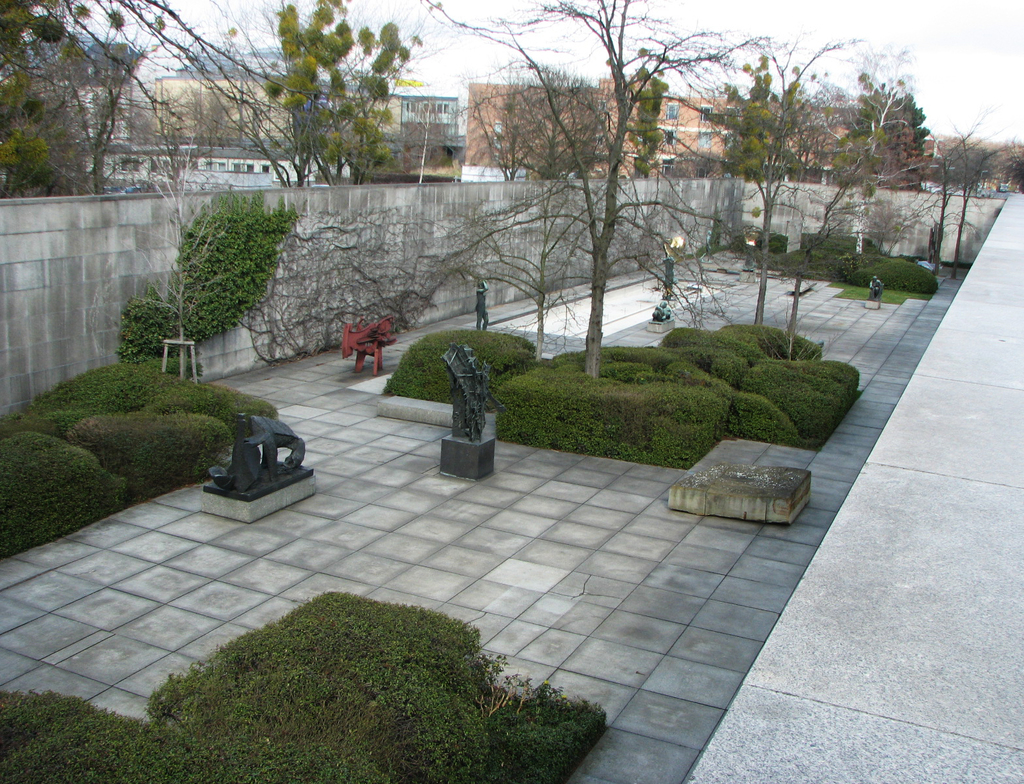Tree: (0, 0, 1024, 381)
